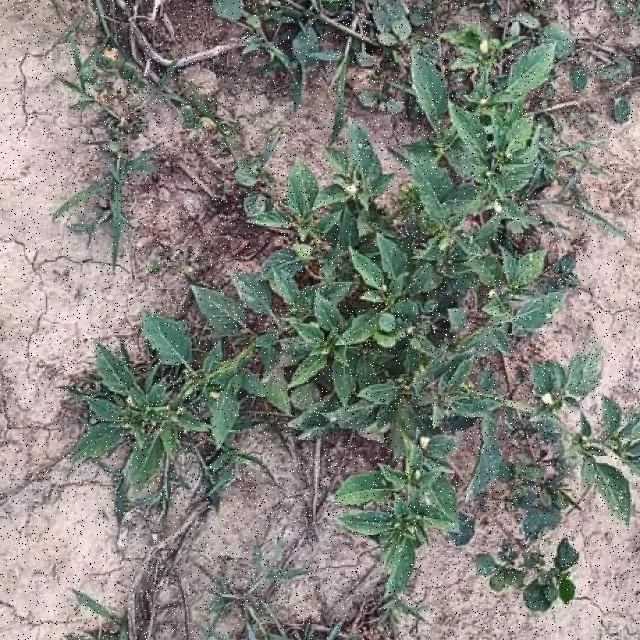weed: (379, 234, 409, 280)
